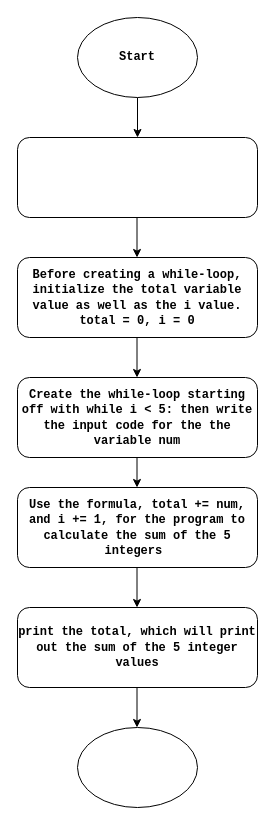
This 275x825 diagram has some shape labels left out. Here are the shapes that lost their labels. From the top down, the centre of each, then its label:
At (137,177): "Ask the user to input 5 integer values. Variable: num".
At (137,767): "End".
